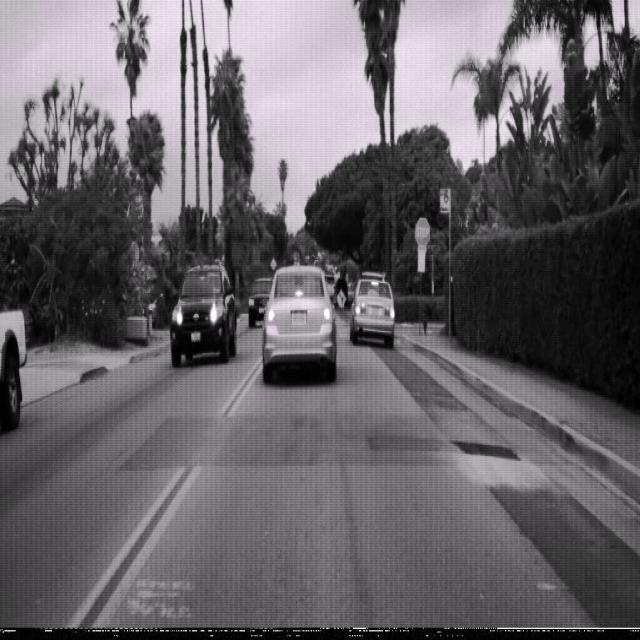stop_sign: (414, 215, 430, 248)
